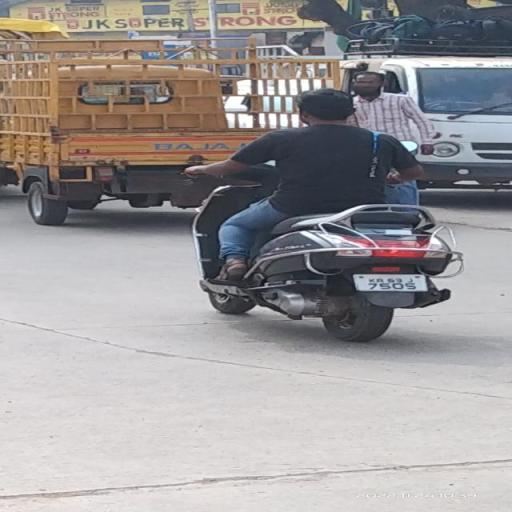bike: (178, 82, 472, 344)
numberplate: (356, 274, 428, 290)
withouthelmet: (300, 89, 354, 124)
